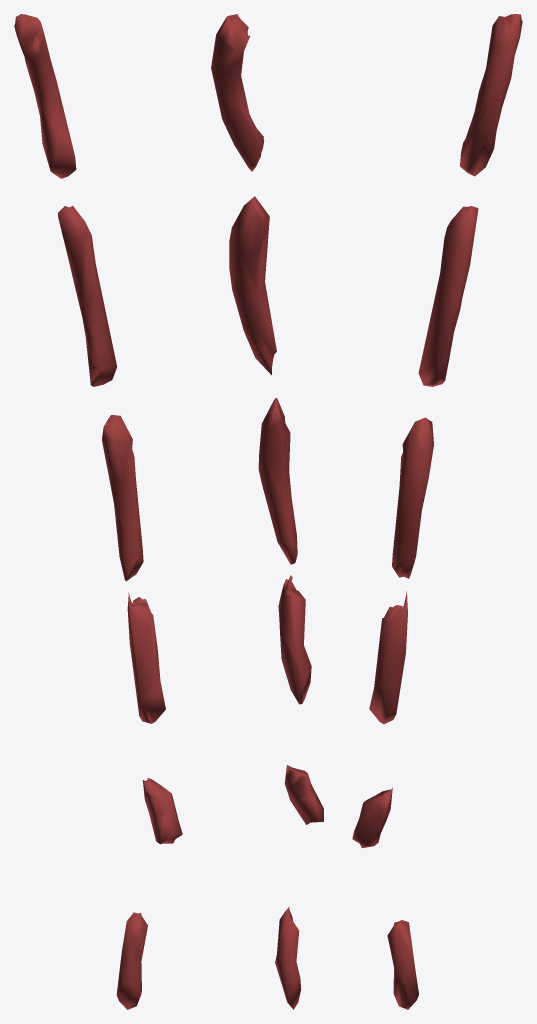
The model's file is interspinales-lumborum-muscles-l.glb.
3 renders of one model, left to right at view 1: azimuth 90°, elevation 25°; view 2: azimuth 150°, elevation 25°; view 3: azimuth 270°, elevation 25°, orthographic. The views are drawn at different scales.
Parts seen in each view (by area): view 1: Interspinales lumborum muscles.l; view 2: Interspinales lumborum muscles.l; view 3: Interspinales lumborum muscles.l.
Boxes of the visible parts, <box> form: Interspinales lumborum muscles.l: <box>14,14,182,1009</box>; Interspinales lumborum muscles.l: <box>211,14,323,1009</box>; Interspinales lumborum muscles.l: <box>352,14,522,1009</box>.
Bounding box in the file's own units: 0.00875 × 0.1603 × 0.0247.
